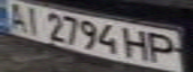2: (39, 10, 66, 44)
4: (96, 21, 121, 56)
7: (57, 13, 81, 46)
9: (78, 18, 100, 51)
A: (0, 1, 30, 30)
H: (121, 26, 154, 61)
I: (18, 5, 45, 35)
P: (145, 30, 184, 65)
